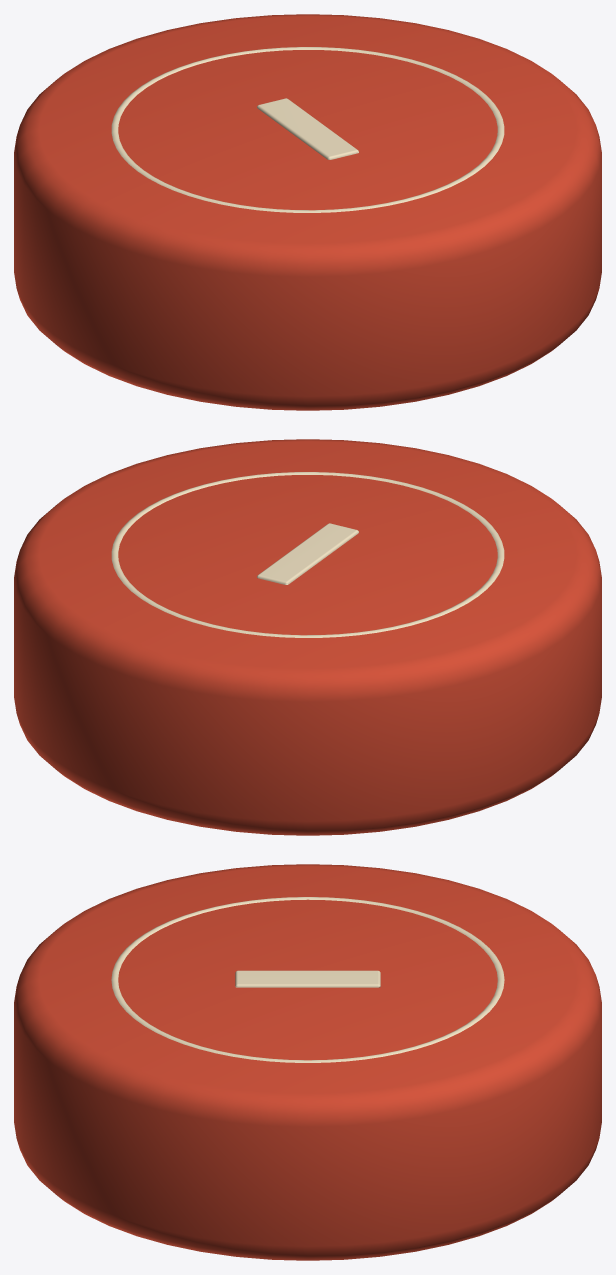
File: button_cap.glb
3 views of the same model, one above another, from view 1: azimuth 30°, elevation 25°; view 2: azimuth 150°, elevation 25°; view 3: azimuth 270°, elevation 25° (orthographic).
Parts seen in each view (by area): view 1: V15_ButtonRed, V15_CreamPaint.002; view 2: V15_ButtonRed, V15_CreamPaint.002; view 3: V15_ButtonRed, V15_CreamPaint.002.
Boxes of the visible parts, x1,y1,x2,y2 form: V15_ButtonRed: (14, 14, 601, 410); V15_CreamPaint.002: (111, 47, 504, 212); V15_ButtonRed: (14, 439, 601, 835); V15_CreamPaint.002: (111, 472, 504, 637); V15_ButtonRed: (14, 864, 601, 1260); V15_CreamPaint.002: (111, 897, 504, 1062).
Bounding box in the file's own units: 0.21 × 0.066 × 0.21.
